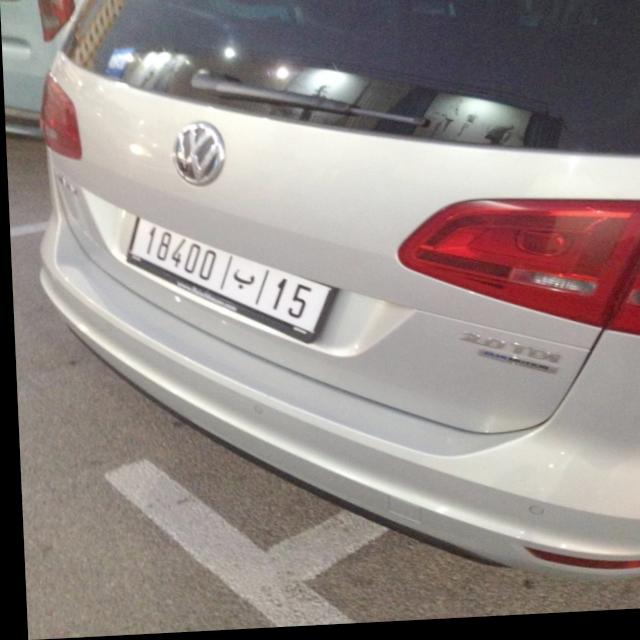License-Plate: (126, 220, 331, 344)
